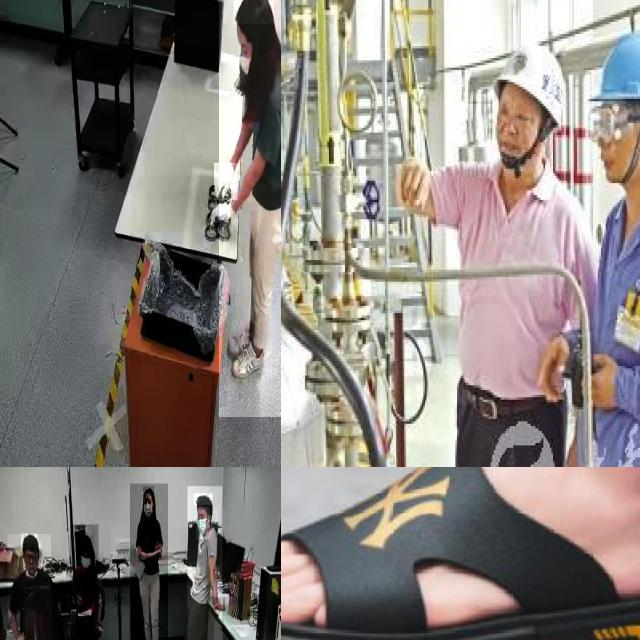No_Ear-Protection: (492, 45, 556, 177), (589, 34, 640, 189)
Sandals: (281, 467, 640, 640)
face_mask: (237, 37, 255, 81), (196, 506, 210, 540), (79, 553, 95, 574), (141, 496, 155, 518)
face_nomask: (23, 550, 38, 572)
hand_glove: (214, 163, 238, 200), (210, 199, 234, 235)
hand_noglove: (212, 598, 225, 612), (136, 548, 148, 561), (154, 538, 162, 553)
head_nohelmet: (22, 587, 61, 621), (233, 0, 274, 25), (77, 533, 95, 551), (193, 493, 213, 506), (21, 534, 39, 548), (143, 486, 155, 497)
person: (218, 0, 281, 417), (129, 483, 168, 640), (187, 486, 222, 640), (7, 534, 51, 640), (70, 524, 99, 640)
shoes: (231, 343, 266, 382), (228, 319, 260, 357)
